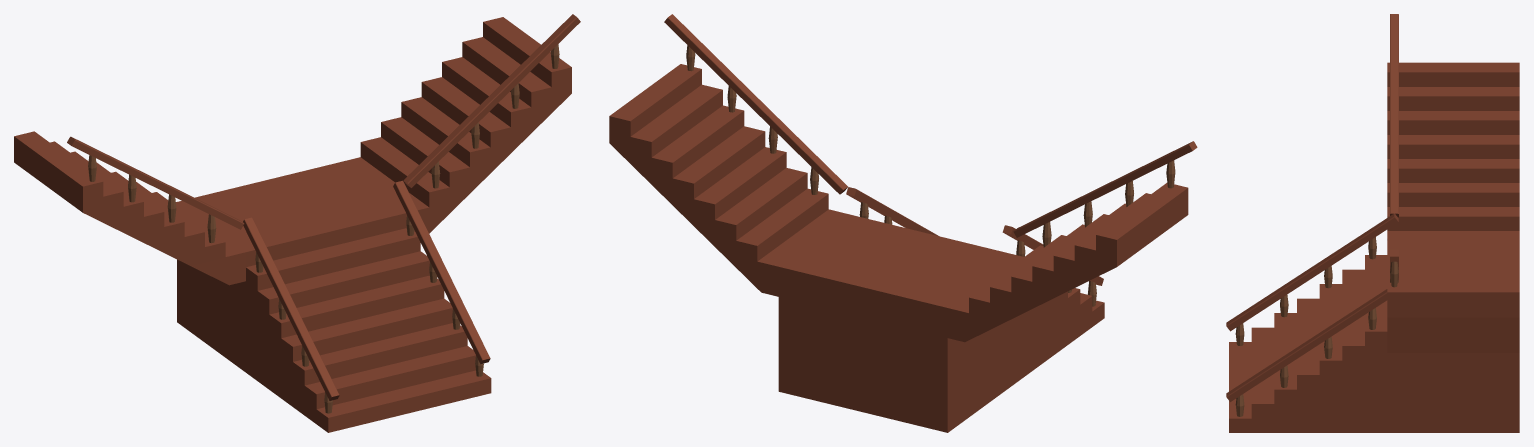
Rendered from Stairs.fbx.
3 renders of one model, left to right at view 1: azimuth 30°, elevation 25°; view 2: azimuth 150°, elevation 25°; view 3: azimuth 270°, elevation 25°, orthographic. The views are drawn at different scales.
Visible parts, largest first — view 1: Stairs; view 2: Stairs; view 3: Stairs.
Boxes of the visible parts, <box> form: Stairs: <box>14,14,580,432</box>; Stairs: <box>609,14,1197,432</box>; Stairs: <box>1226,14,1519,432</box>.
Bounding box in the file's own units: 51.25 × 26.29 × 26.6.
